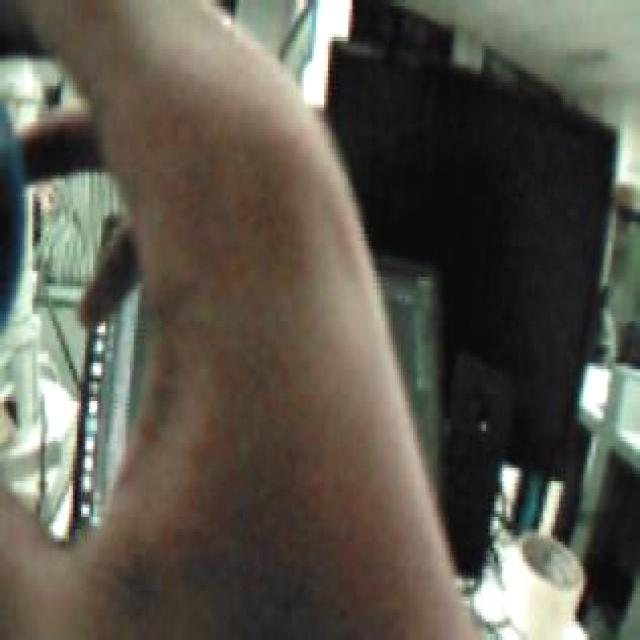BallPurple: (0, 89, 22, 332)
